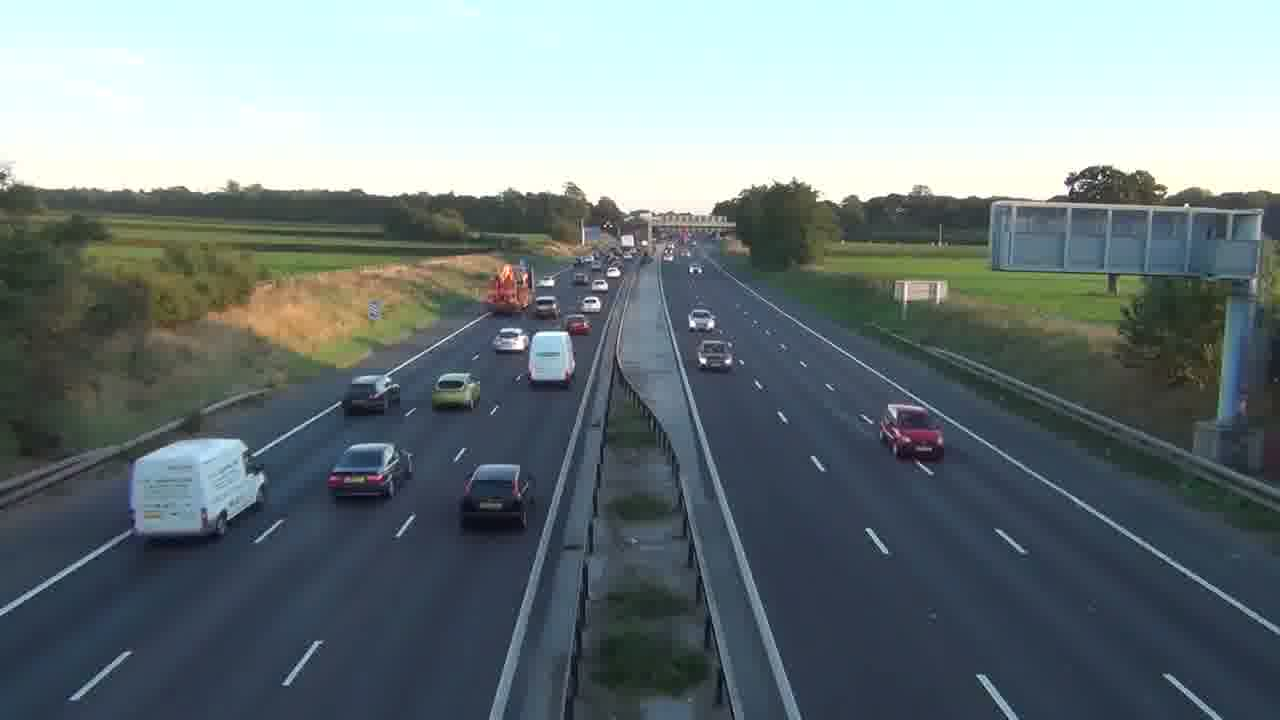car: (326, 441, 412, 500), (460, 463, 534, 528), (878, 402, 945, 461), (431, 370, 481, 410), (492, 327, 530, 354)
truck: (129, 436, 265, 542), (527, 330, 576, 388)
